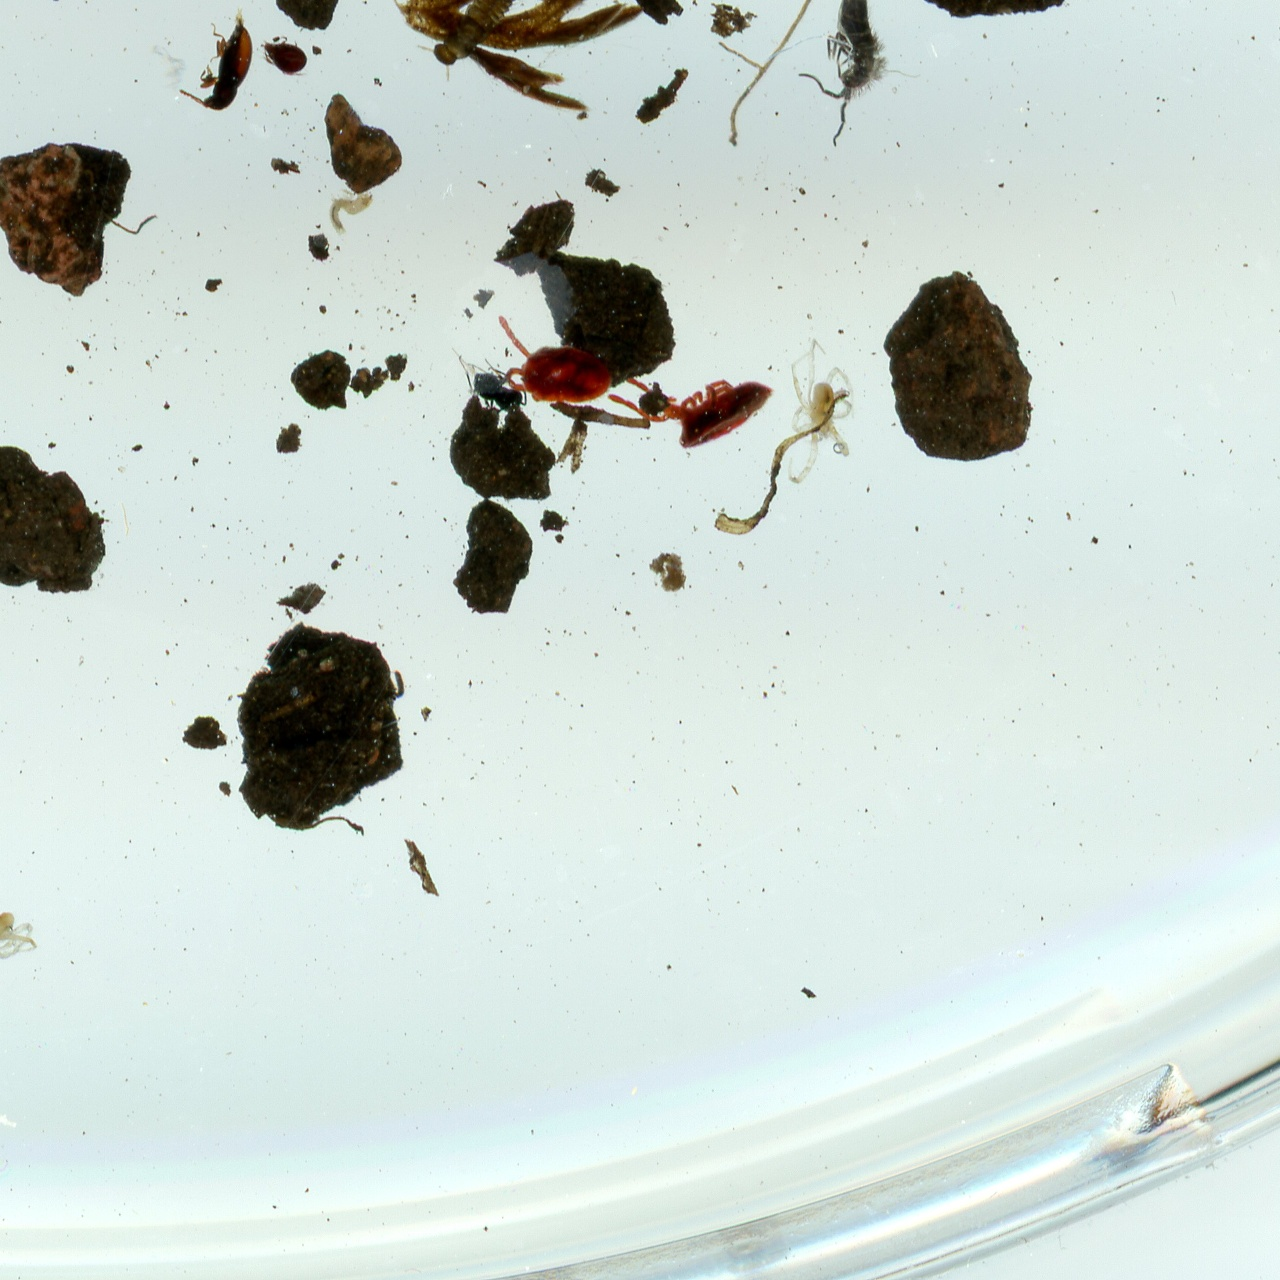arthropod: (598, 350, 783, 466), (411, 0, 577, 88), (796, 0, 892, 150), (491, 301, 611, 408), (783, 332, 857, 488), (438, 326, 536, 428), (176, 9, 256, 112), (0, 906, 42, 977), (260, 34, 312, 79)
